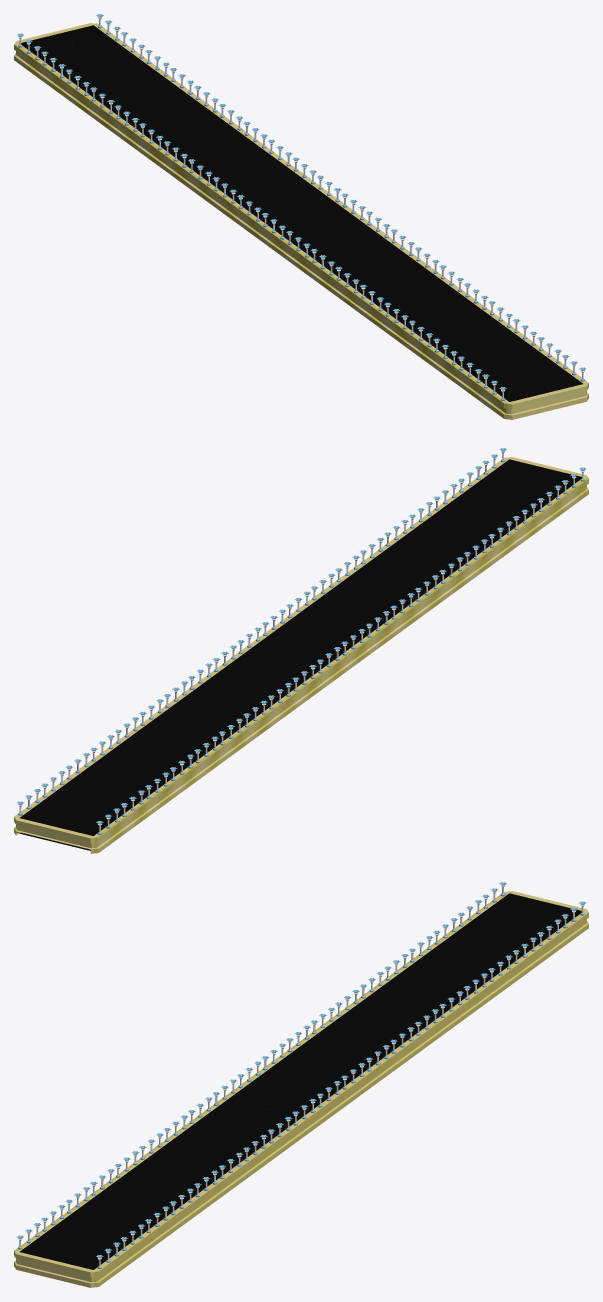
Rendered from CutsceneBridge.obj.
3 views of the same model, one above another, from view 1: azimuth 30°, elevation 25°; view 2: azimuth 150°, elevation 25°; view 3: azimuth 330°, elevation 25° (orthographic).
Visible parts, largest first — view 1: Stars_Cube.044, Gold_Cube.043, Torchs_meshId19_name.004; view 2: Stars_Cube.044, Gold_Cube.043, Torchs_meshId19_name.004; view 3: Stars_Cube.044, Gold_Cube.043, Torchs_meshId19_name.004.
Boxes of the visible parts, <box> form: Stars_Cube.044: <box>21,25,582,401</box>; Gold_Cube.043: <box>14,23,588,419</box>; Torchs_meshId19_name.004: <box>17,14,586,400</box>; Stars_Cube.044: <box>19,459,581,850</box>; Gold_Cube.043: <box>14,457,588,853</box>; Torchs_meshId19_name.004: <box>16,448,585,834</box>; Stars_Cube.044: <box>20,893,581,1269</box>; Gold_Cube.043: <box>14,891,588,1287</box>; Torchs_meshId19_name.004: <box>16,882,585,1268</box>.
Bounding box in the file's own units: 809 × 246 × 8100.
3 materials, 3 textured.
